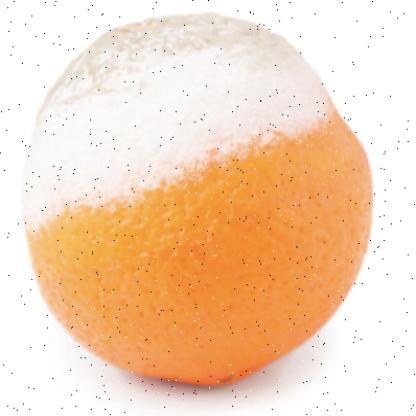rotten: (28, 16, 373, 385)
